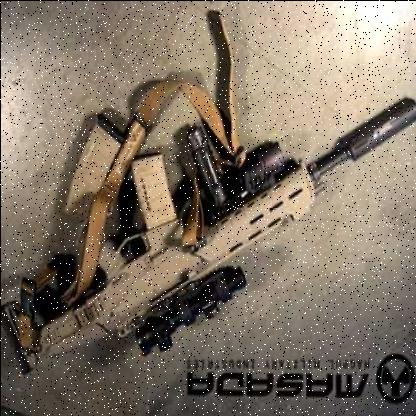rifle: (1, 83, 414, 392)
